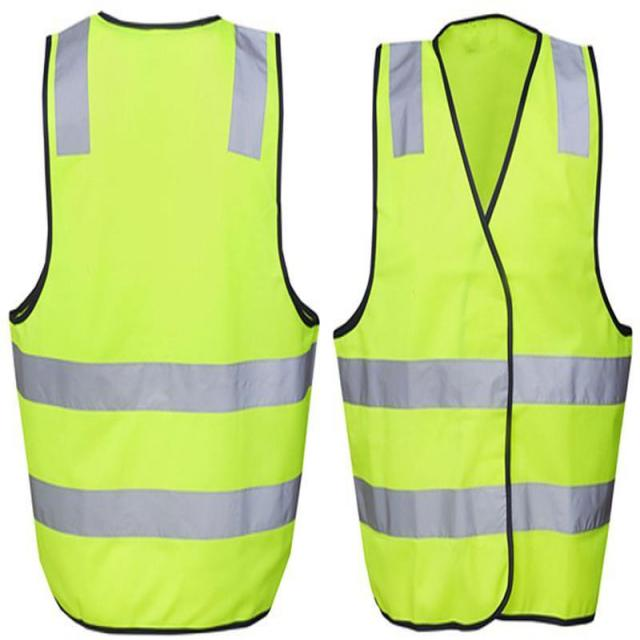Reflective-Jacket: (1, 0, 334, 640), (325, 0, 640, 640)
